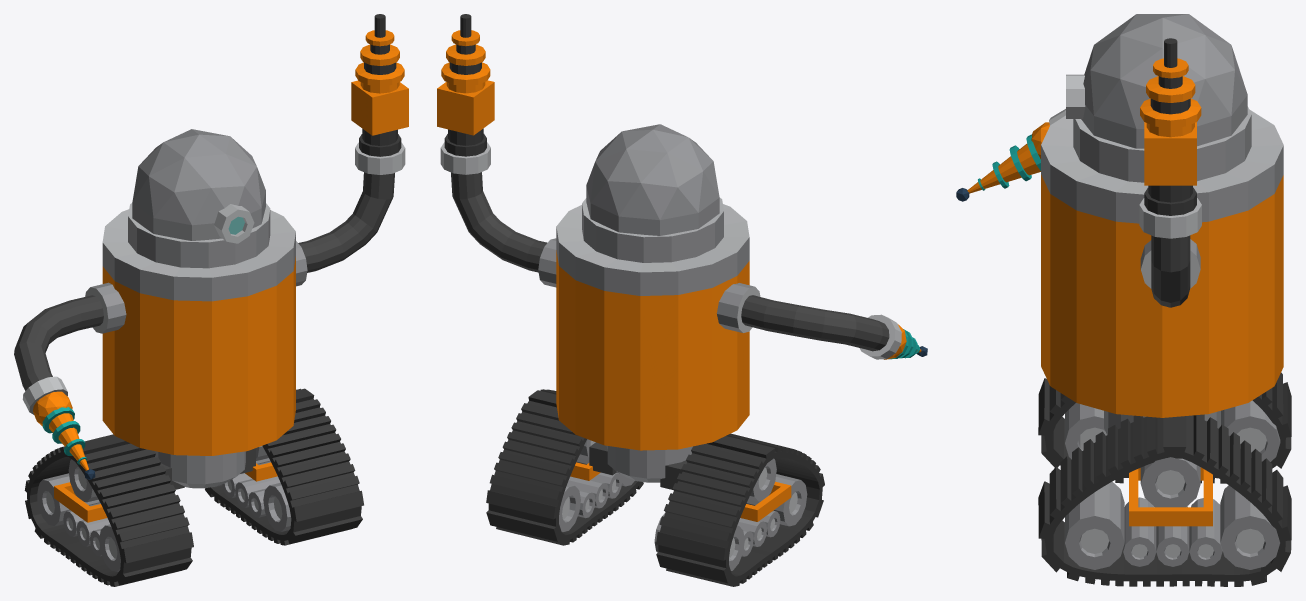
The model's file is robo.fbx.
3 renders of one model, left to right at view 1: azimuth 30°, elevation 25°; view 2: azimuth 150°, elevation 25°; view 3: azimuth 270°, elevation 25°, orthographic. The views are drawn at different scales.
Visible parts, largest first — view 1: body, HEAD, l_arm, r_arm, Circle.063, Circle.064, Circle.062; view 2: body, HEAD, l_arm, r_arm, Circle.063, Circle.064, Circle.062; view 3: body, HEAD, l_arm, Circle.063, Circle.064, Circle.062, r_arm.
Part boxes in pixels (bbox=[...]): body: bbox=[24, 209, 363, 586]; HEAD: bbox=[128, 129, 270, 268]; l_arm: bbox=[298, 14, 408, 272]; r_arm: bbox=[14, 295, 103, 479]; Circle.063: bbox=[37, 458, 291, 571]; Circle.064: bbox=[63, 461, 280, 556]; Circle.062: bbox=[68, 446, 268, 502]; body: bbox=[486, 204, 824, 586]; HEAD: bbox=[582, 124, 723, 262]; l_arm: bbox=[437, 14, 547, 272]; r_arm: bbox=[741, 295, 927, 359]; Circle.063: bbox=[559, 457, 807, 570]; Circle.064: bbox=[567, 472, 780, 556]; Circle.062: bbox=[578, 439, 776, 501]; body: bbox=[1038, 109, 1291, 586]; HEAD: bbox=[1066, 14, 1251, 182]; l_arm: bbox=[1139, 38, 1201, 307]; Circle.063: bbox=[1065, 400, 1280, 569]; Circle.064: bbox=[1123, 497, 1222, 566]; Circle.062: bbox=[1140, 457, 1200, 507]; r_arm: bbox=[956, 109, 1065, 201].
Size of the model in its own units: 76.51 by 83.25 by 43.07.
